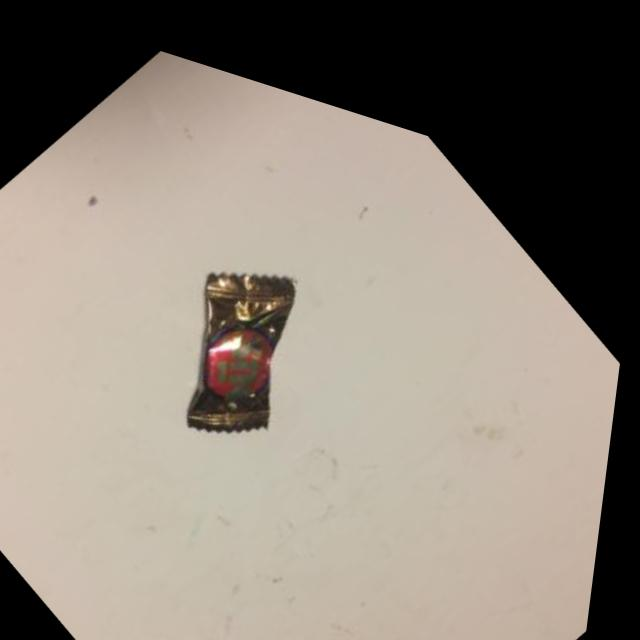trash: (6, 60, 485, 615)
